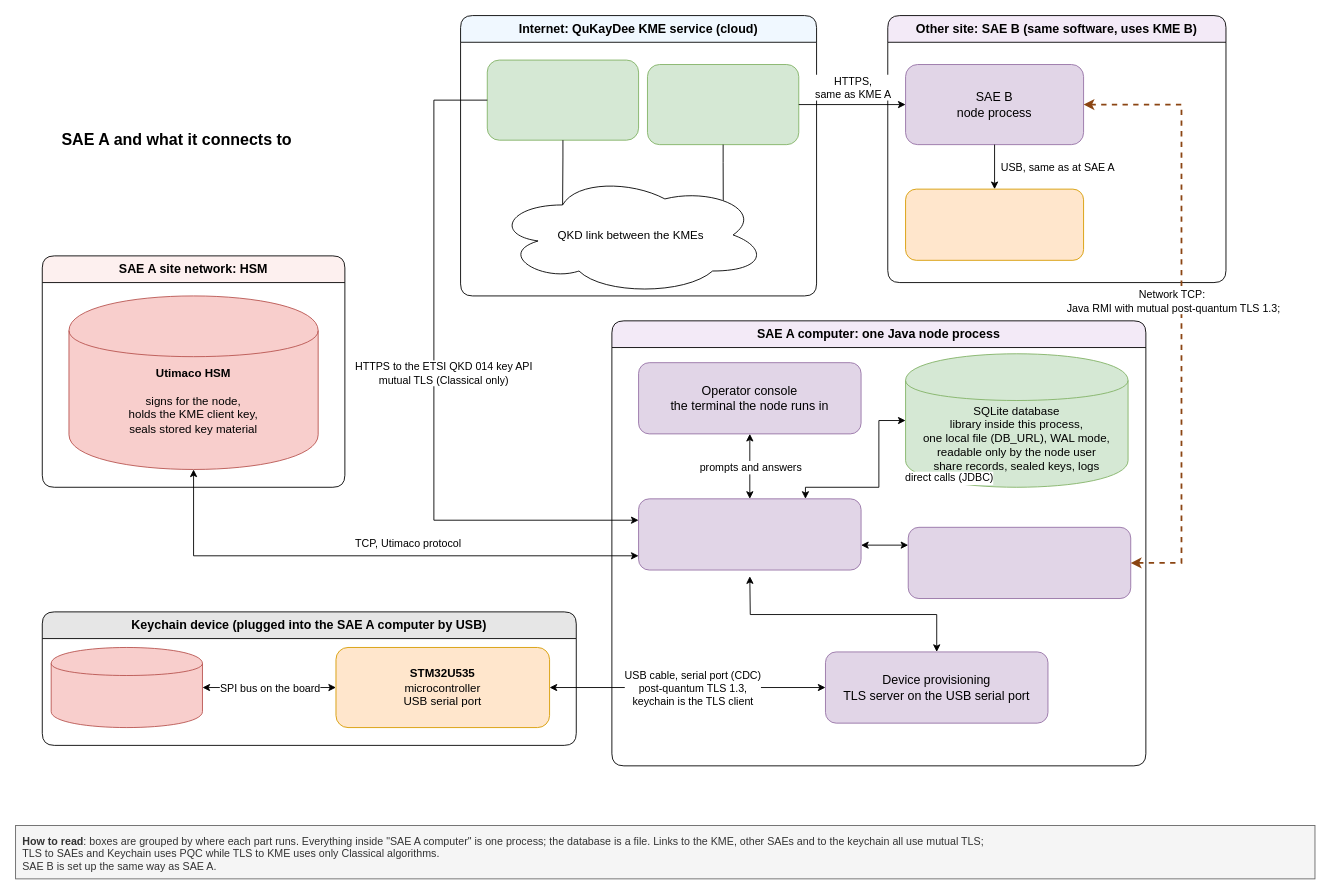
This 1331x894 diagram has some shape labels left out. Each missing label, with the centre of its shape:
Counterpart keychain provisioned at SAE B: the point at 994,224
KME A serves SAE A: the point at 562,99
KME B serves SAE B: the point at 723,104
Node provisioning logic, pair locks: the point at 749,534
Peer SAE link RMI server and client: the point at 1019,562
TROPIC01 secure chip stores the pads: the point at 126,687
